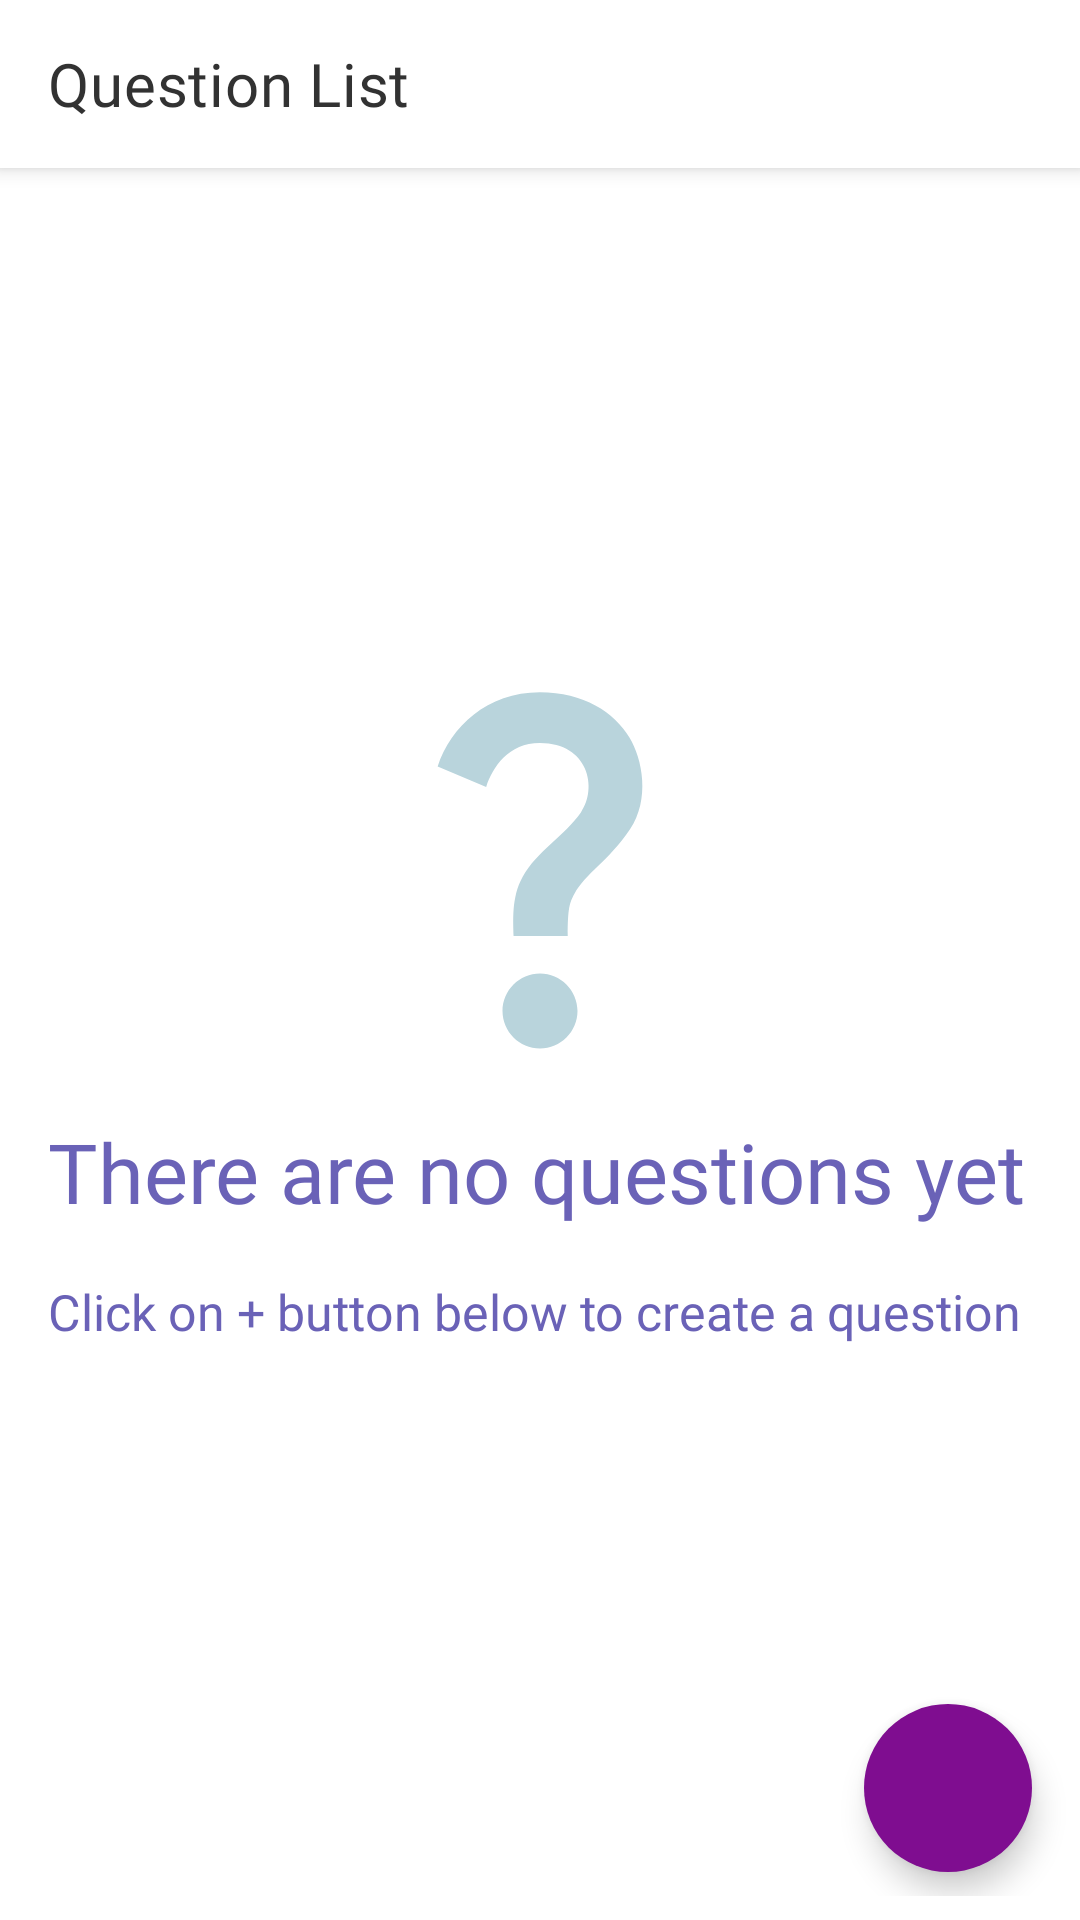

Icons on this 1080*1920 Android screen, each with its box as (x1, y1, x2, y2):
question mark: (438, 692, 642, 1049)
